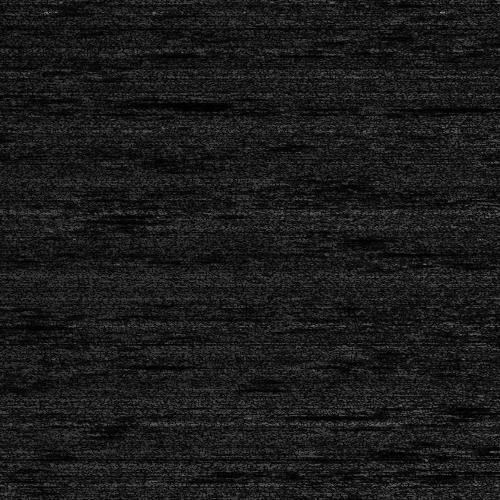rock: (46, 98, 129, 105), (241, 411, 314, 416), (99, 50, 162, 55), (83, 361, 146, 366), (447, 327, 500, 332), (375, 105, 406, 108)
shadow: (88, 98, 219, 105), (115, 361, 214, 366), (278, 411, 374, 416), (131, 50, 198, 55), (391, 105, 500, 108), (484, 327, 500, 332)
